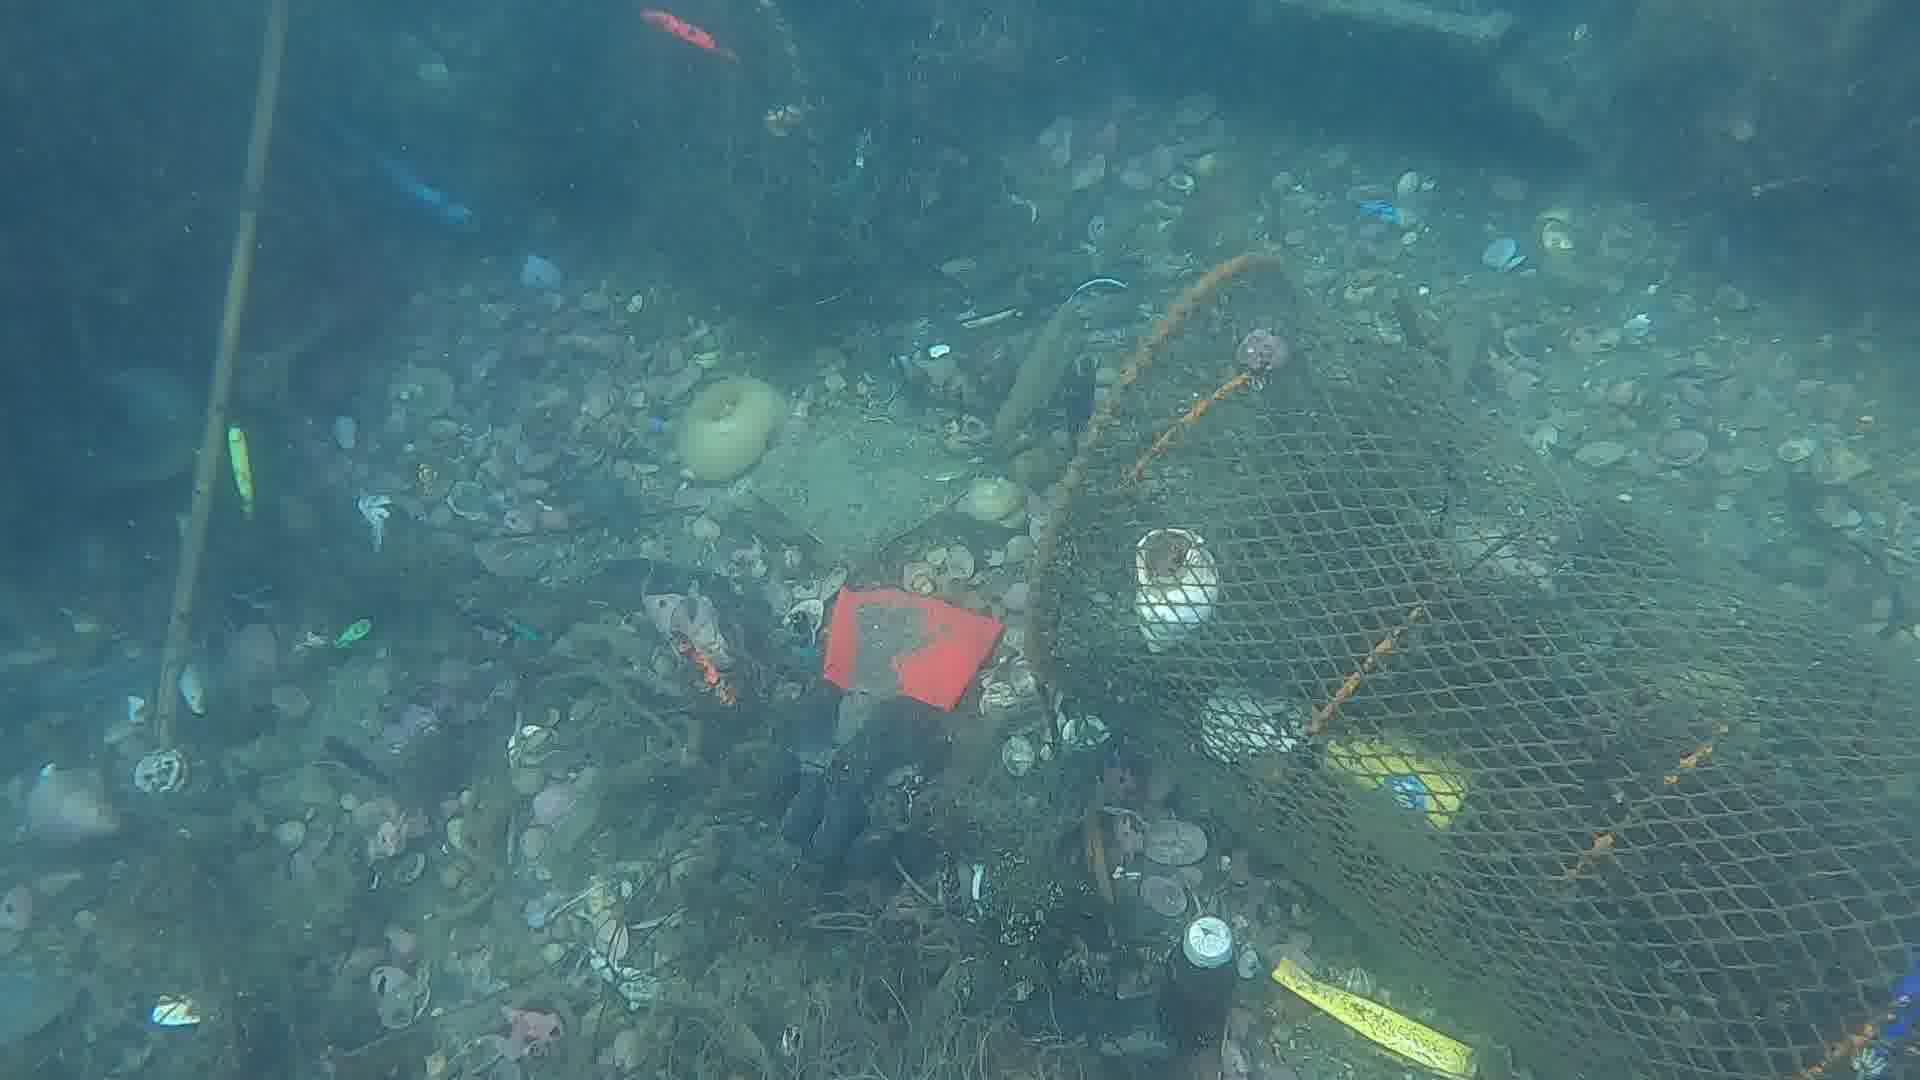spring fish trap: (1015, 248, 1920, 1080)
